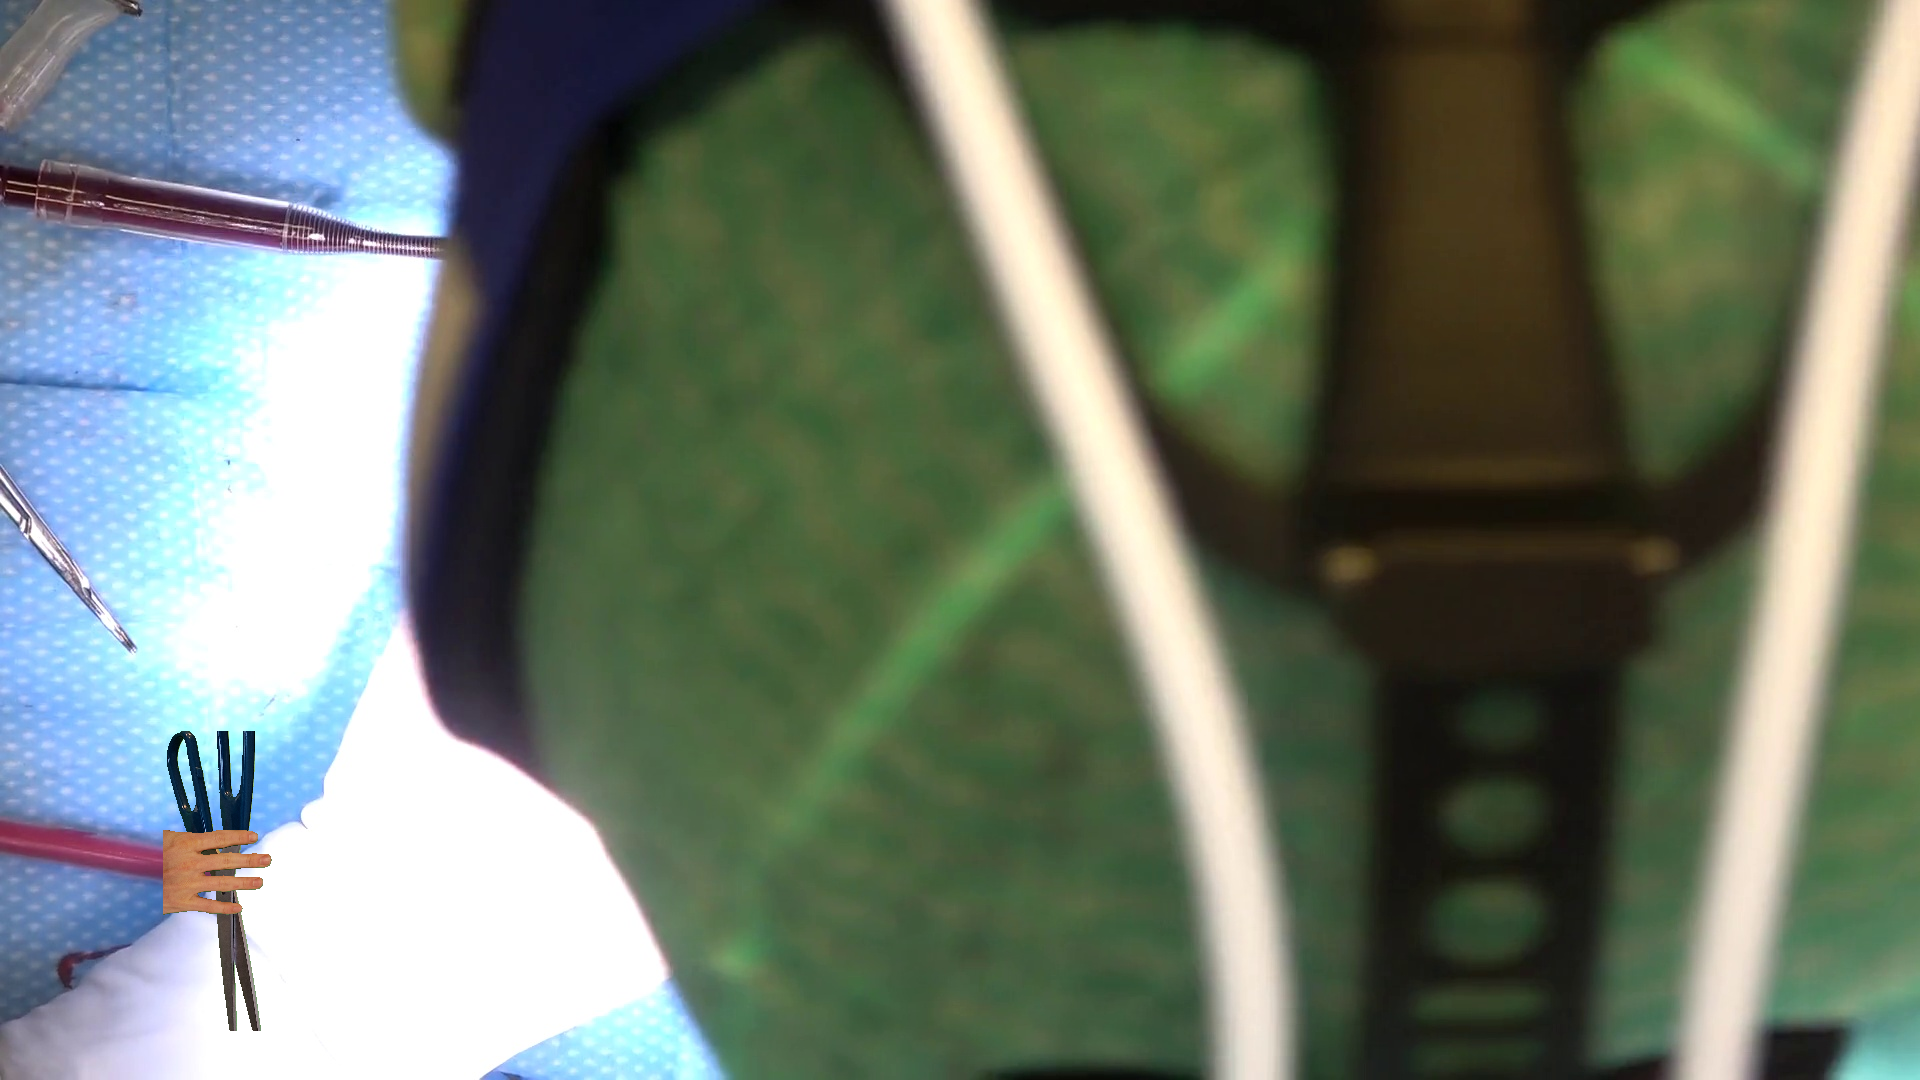scissors: (167, 731, 260, 1030)
